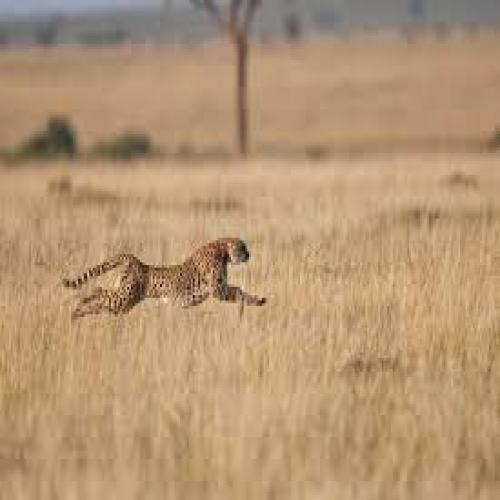cheetah-endangered: (57, 221, 271, 327)
